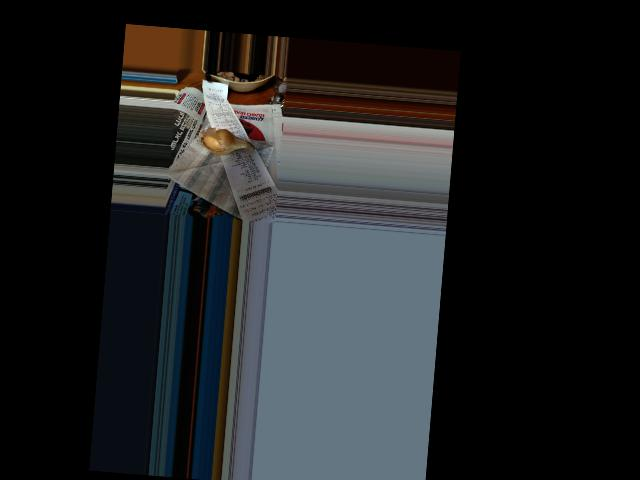onion: (201, 126, 246, 158)
